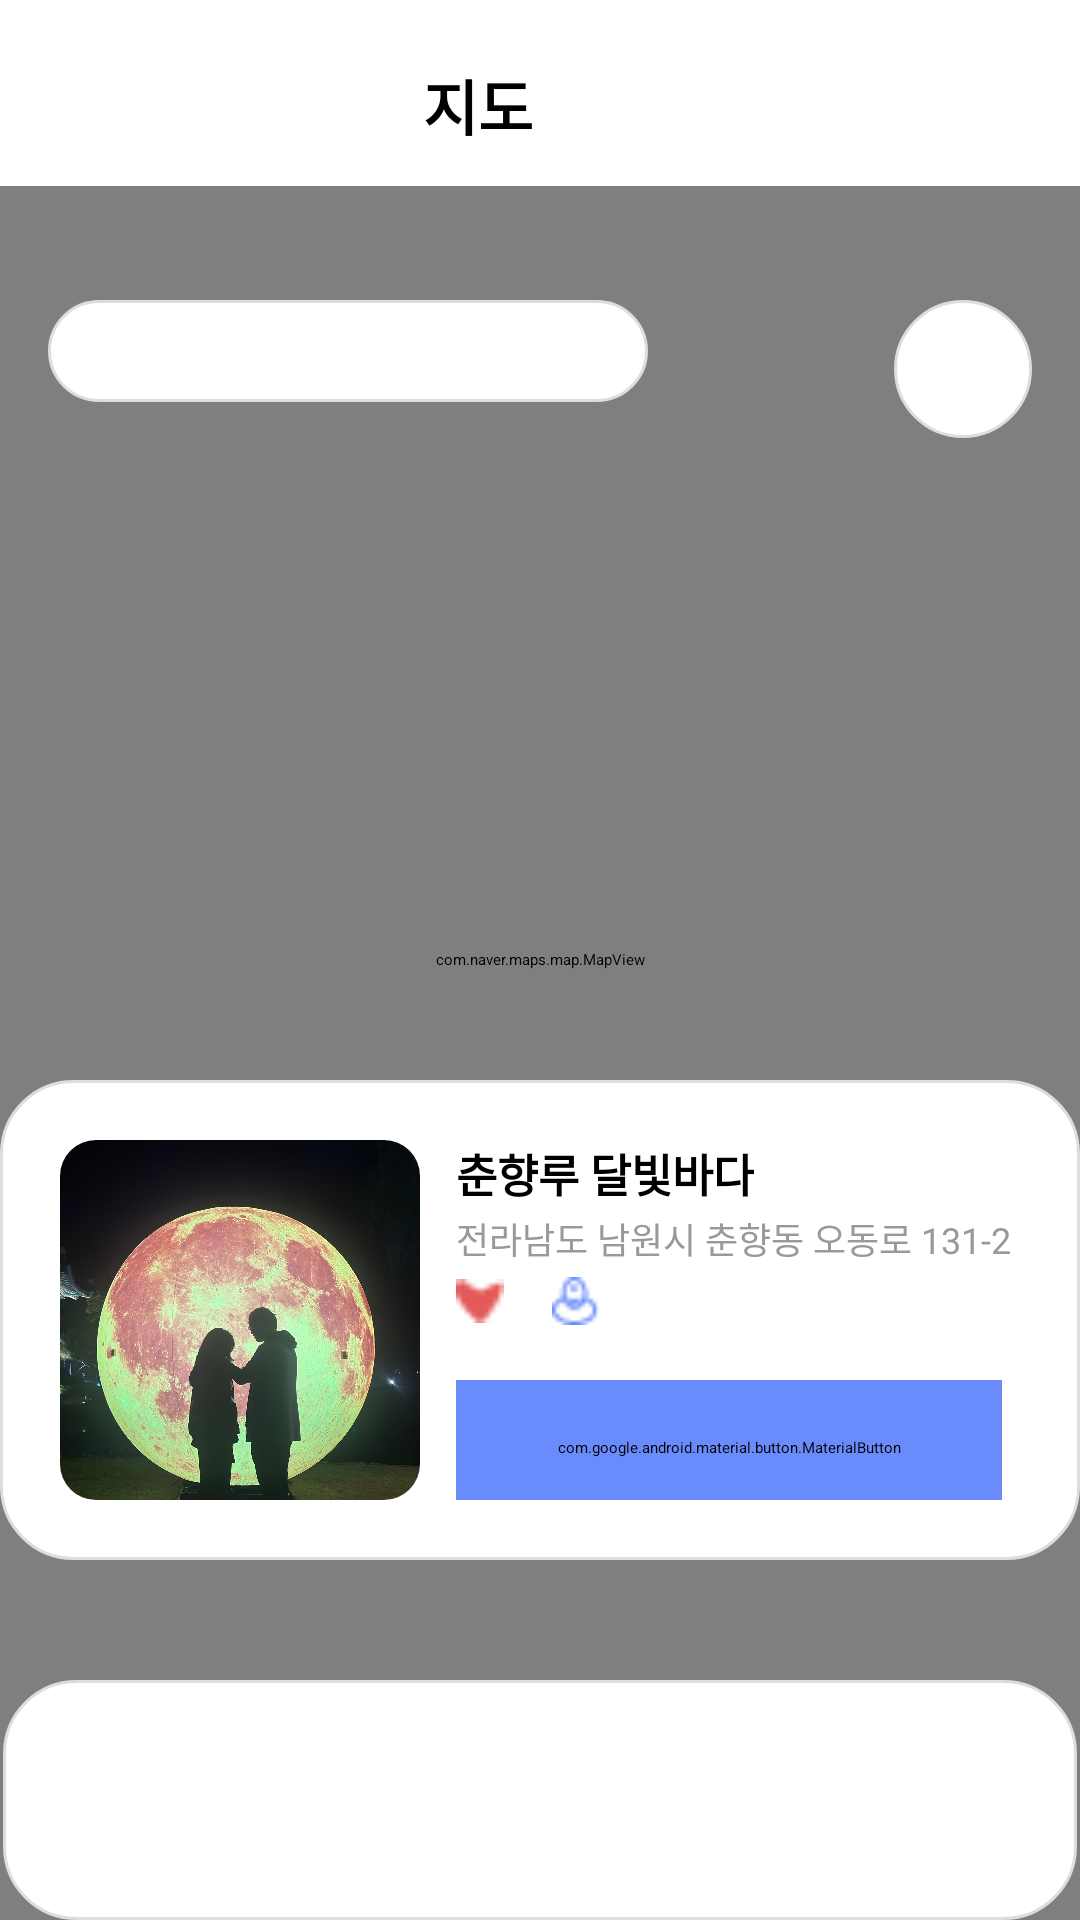

Point at icon controls on the screen. Image size 1080*1920, points as [x,y].
heart: [480,1301]
